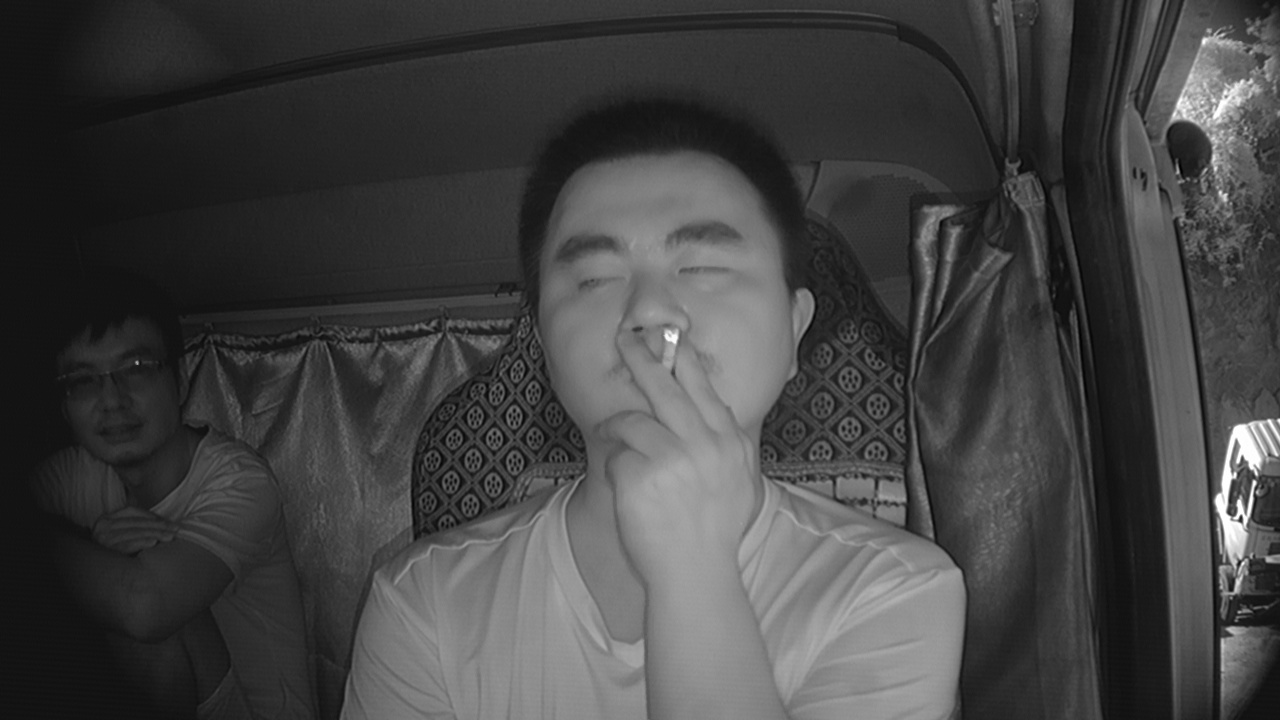hand: (598, 334, 758, 555)
